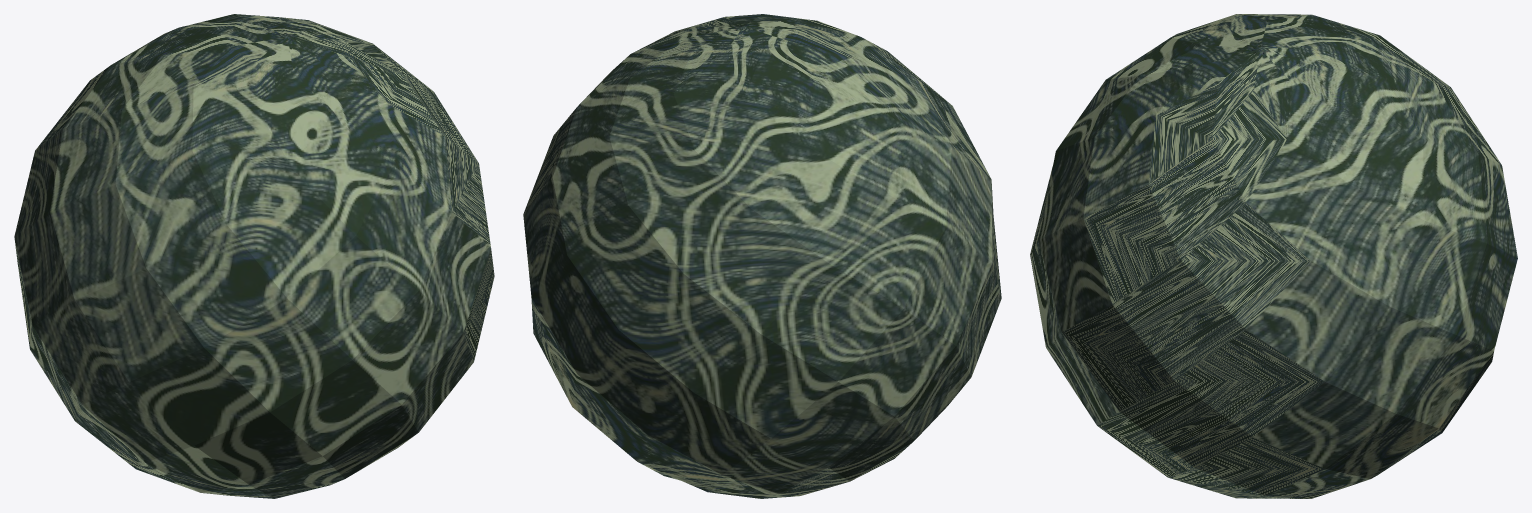
File: planet_green.glb
3 renders of one model, left to right at view 1: azimuth 30°, elevation 25°; view 2: azimuth 150°, elevation 25°; view 3: azimuth 270°, elevation 25°, orthographic.
Parts seen in each view (by area): view 1: Planeta.001; view 2: Planeta.001; view 3: Planeta.001.
Part boxes in pixels (box(x1,y1,x2,y2)): Planeta.001: box(14, 14, 494, 498); Planeta.001: box(523, 14, 1001, 498); Planeta.001: box(1030, 14, 1517, 498).
Bounding box in the file's own units: 1.98 × 1.99 × 2.
1 material, 1 textured.
